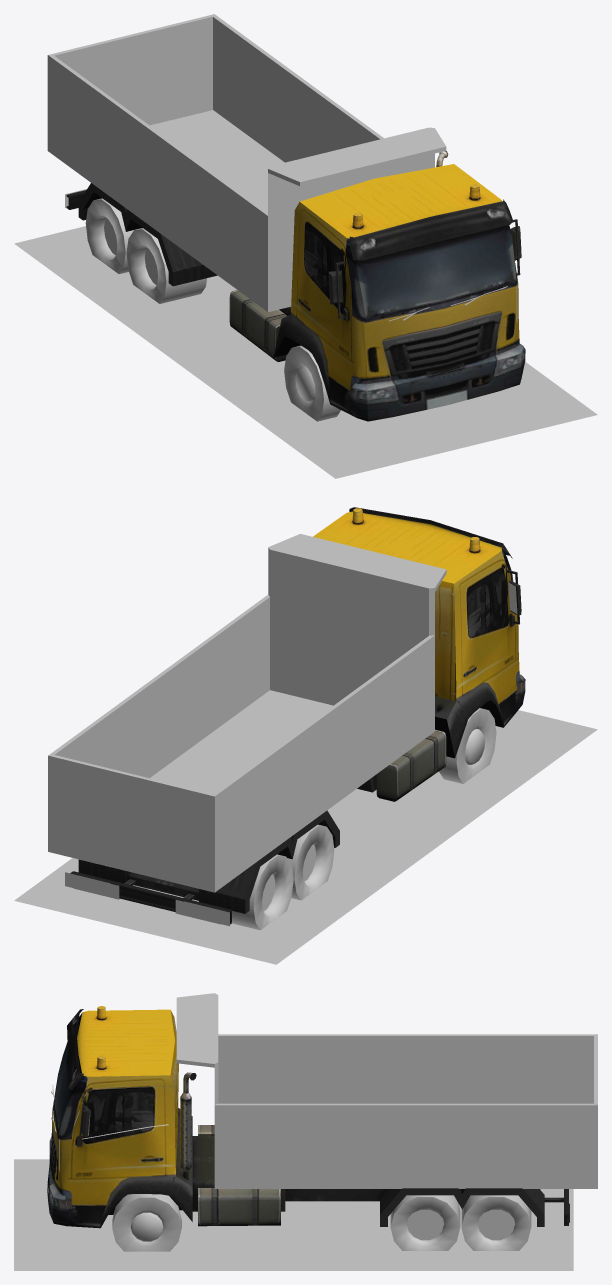
The model's file is SmallDumpTruck.fbx.
The picture shows the model from 3 angles, top to bottom: view 1: azimuth 30°, elevation 25°; view 2: azimuth 150°, elevation 25°; view 3: azimuth 270°, elevation 25°; orthographic projection. The views are drawn at different scales.
Parts seen in each view (by area): view 1: truck, Dumper Box, Shadow, Dumper Door, Truck MR Wheel, Truck FR Wheel, Truck RR Wheel; view 2: Dumper Box, truck, Shadow, Dumper Door, Truck RR Wheel, Truck FR Wheel, Truck MR Wheel, Reverse Light Flare, Brake Light Flare; view 3: Dumper Box, truck, Shadow, Truck FL Wheel, Truck RL Wheel, Truck ML Wheel.
Part boxes in pixels (bbox=[...]): truck: bbox=[66, 151, 525, 421]; Dumper Box: bbox=[47, 14, 446, 311]; Shadow: bbox=[14, 226, 597, 478]; Dumper Door: bbox=[49, 14, 214, 125]; Truck MR Wheel: bbox=[126, 228, 206, 303]; Truck FR Wheel: bbox=[284, 345, 340, 421]; Truck RR Wheel: bbox=[85, 198, 142, 273]; Dumper Box: bbox=[48, 534, 446, 892]; truck: bbox=[70, 507, 525, 924]; Shadow: bbox=[14, 710, 597, 964]; Dumper Door: bbox=[48, 755, 214, 892]; Truck RR Wheel: bbox=[232, 854, 293, 930]; Truck FR Wheel: bbox=[439, 708, 496, 783]; Truck MR Wheel: bbox=[287, 824, 334, 900]; Reverse Light Flare: bbox=[73, 876, 220, 924]; Brake Light Flare: bbox=[65, 872, 229, 926]; Dumper Box: bbox=[176, 993, 597, 1188]; truck: bbox=[47, 1006, 569, 1228]; Shadow: bbox=[14, 1159, 573, 1270]; Truck FL Wheel: bbox=[112, 1194, 181, 1251]; Truck RL Wheel: bbox=[461, 1195, 531, 1250]; Truck ML Wheel: bbox=[390, 1195, 460, 1250].
Bounding box in the file's own units: 3.38 × 2.75 × 7.49.
